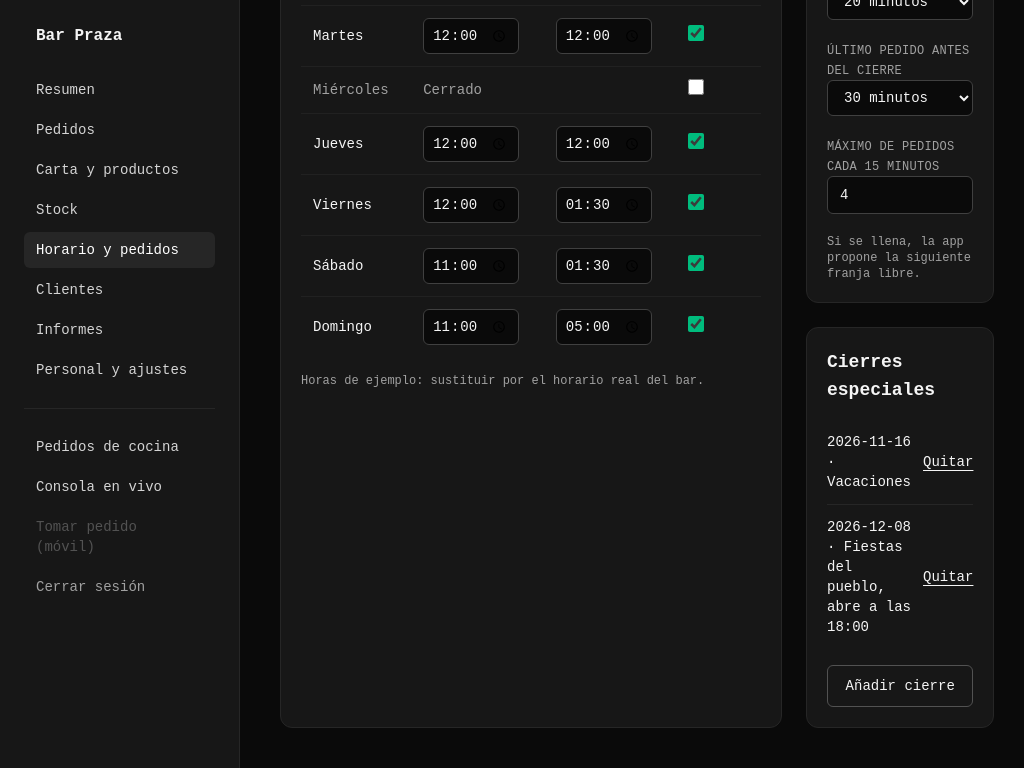
Scenario: ClosuresCard edge cases › tells the user when saving fails and keeps the form open
The image size is (1024, 768).
(page scrolled)
Click the button "Añadir cierre" at (900,686), box [827,665,973,707]
(page scrolled)
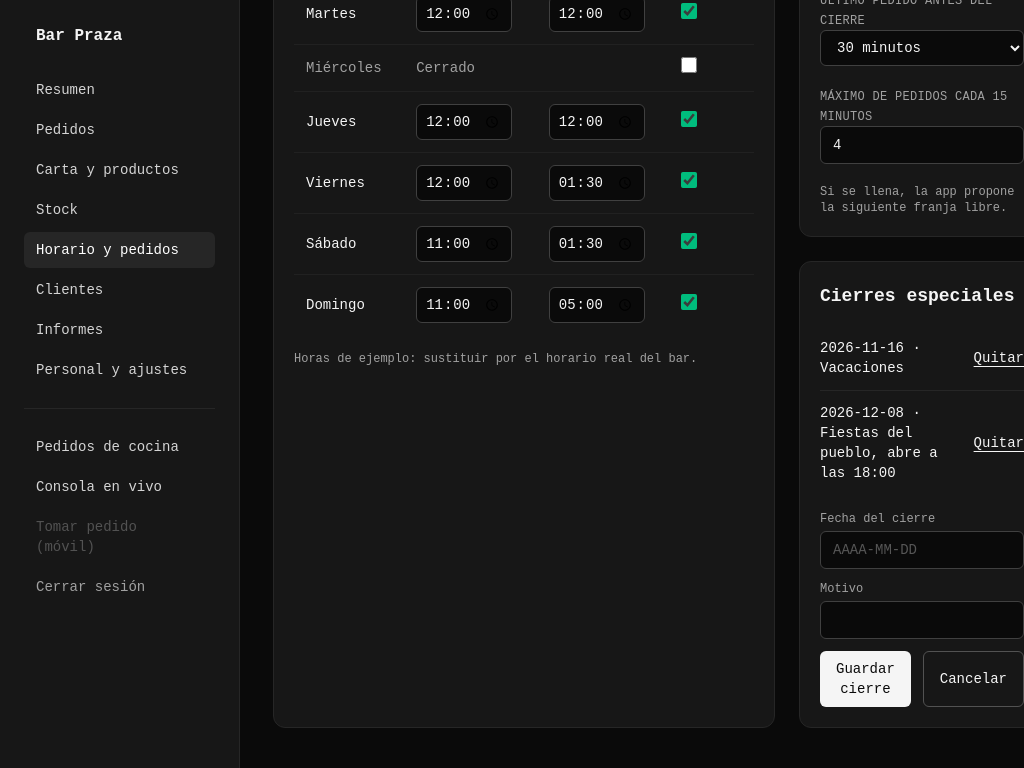
Type "2027-01-01" into the field labelled "Fecha del cierre" at (922,550), box [820,531,1023,569]
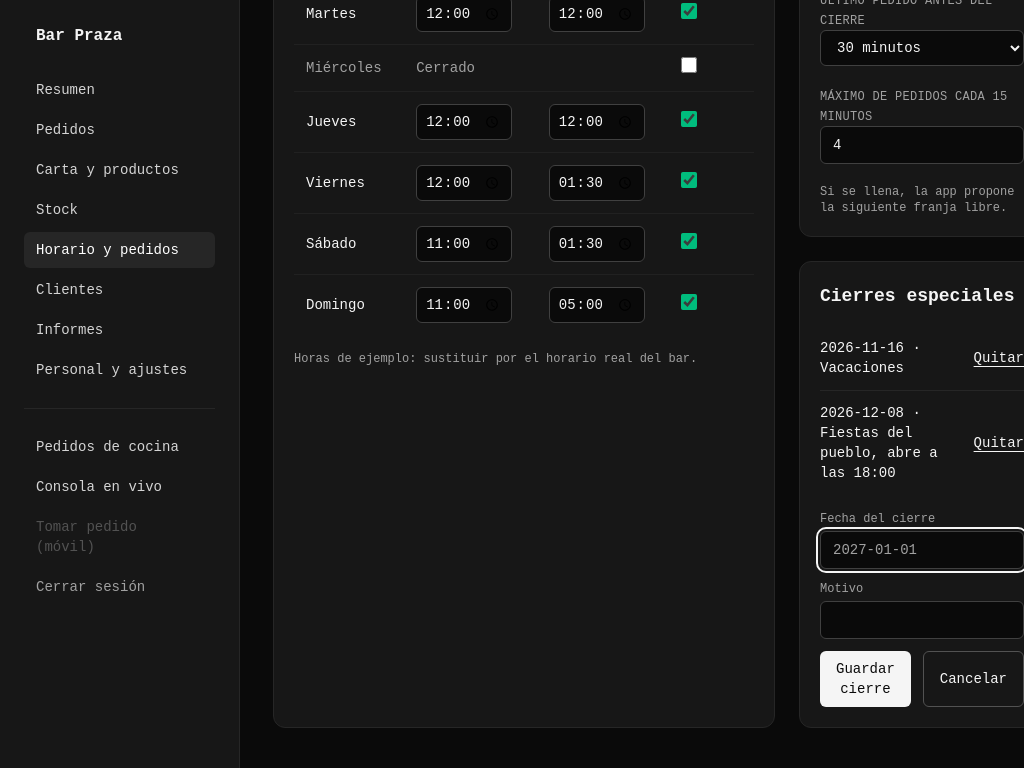
Type "Reforma" into the field labelled "Motivo" at (922,620), box [820,601,1023,639]
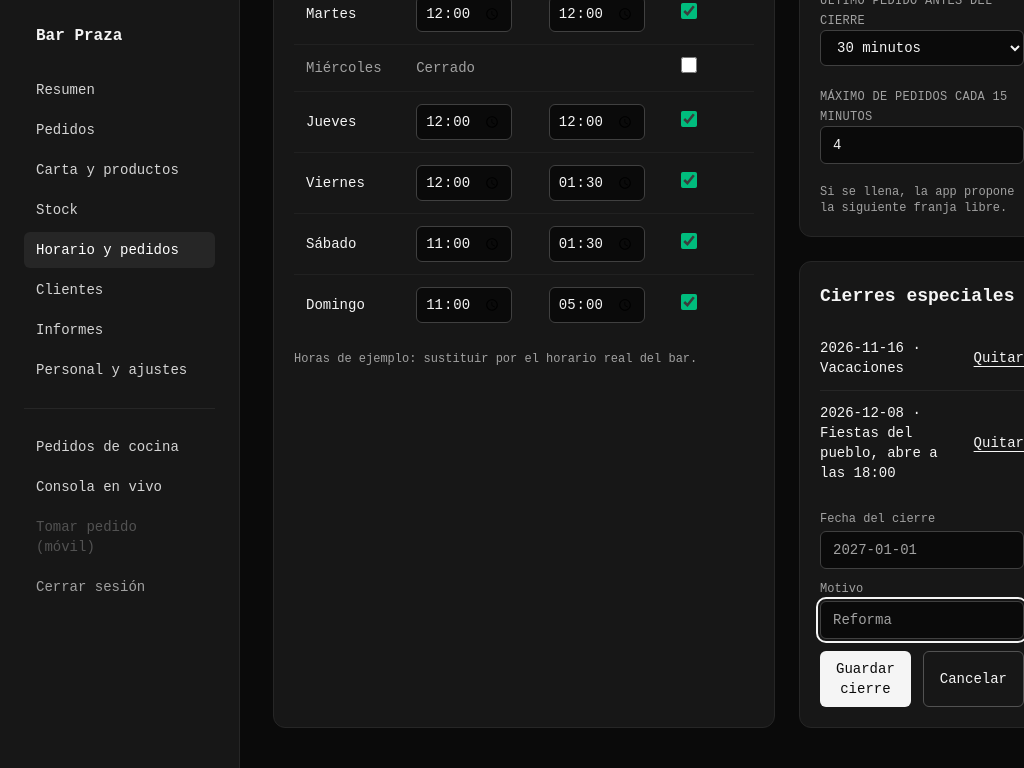
Click the button "Guardar cierre" at (865,679), box [820,651,911,707]
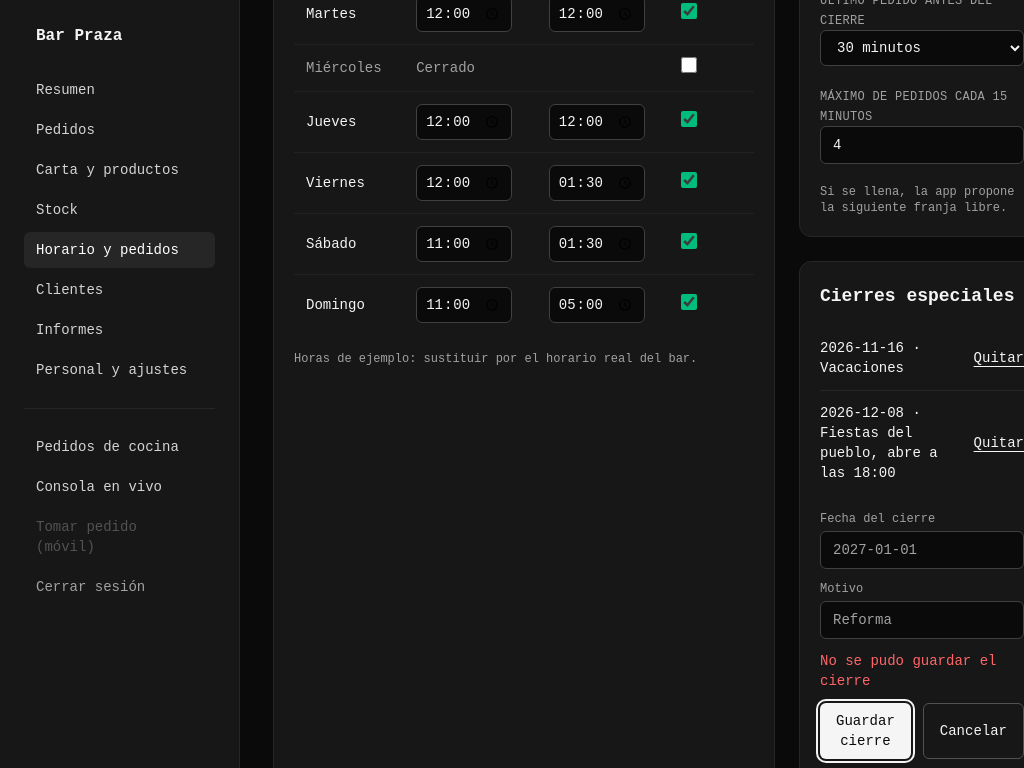
Expected: the message reads "No se pudo guardar el cierre", [820,653,996,689]
